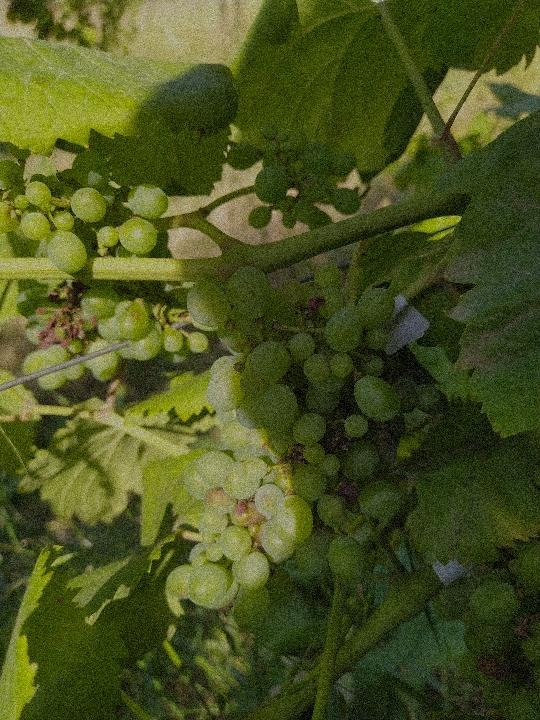grape: (164, 257, 452, 637), (1, 144, 212, 392), (224, 121, 366, 232)
